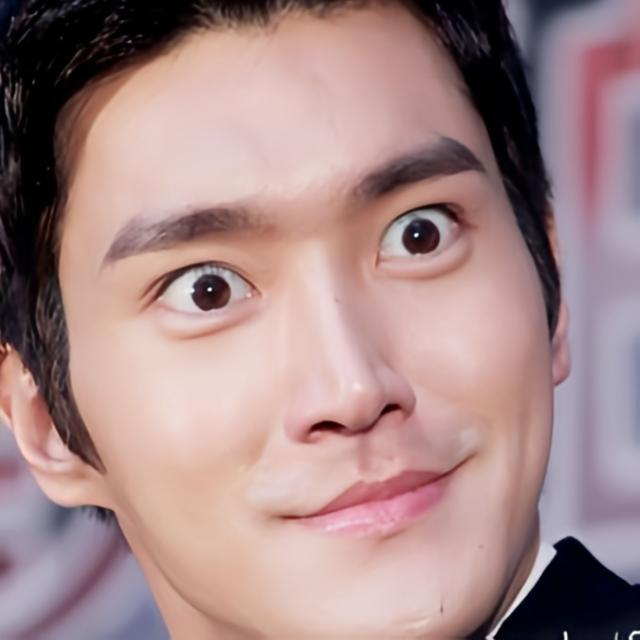surprise: (54, 0, 556, 640)
